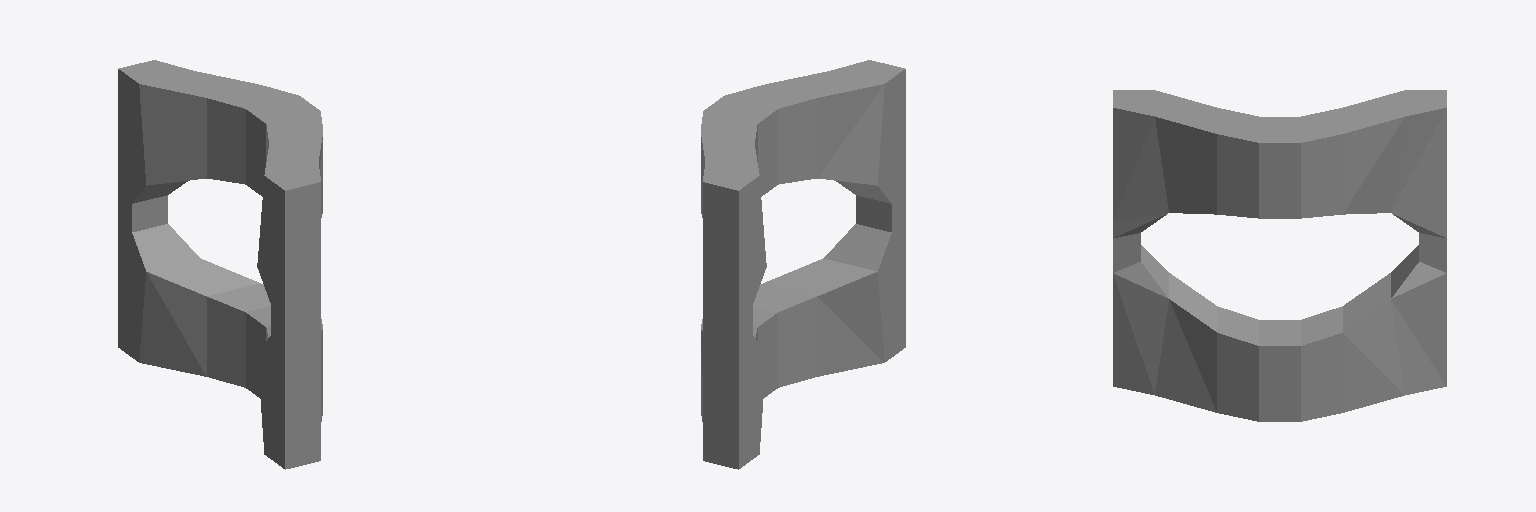
File: Emplacement.obj
3 views of the same model, side by side, from view 1: azimuth 30°, elevation 25°; view 2: azimuth 150°, elevation 25°; view 3: azimuth 270°, elevation 25° (orthographic).
Visible parts, largest first — view 1: TurretEmplacement_Cube; view 2: TurretEmplacement_Cube; view 3: TurretEmplacement_Cube.
Boxes of the visible parts, box(x1,y1,x2,y2) form: TurretEmplacement_Cube: box(118, 60, 322, 469); TurretEmplacement_Cube: box(701, 60, 905, 469); TurretEmplacement_Cube: box(1113, 90, 1446, 421).
Bounding box in the file's own units: 6 × 14.75 × 16.